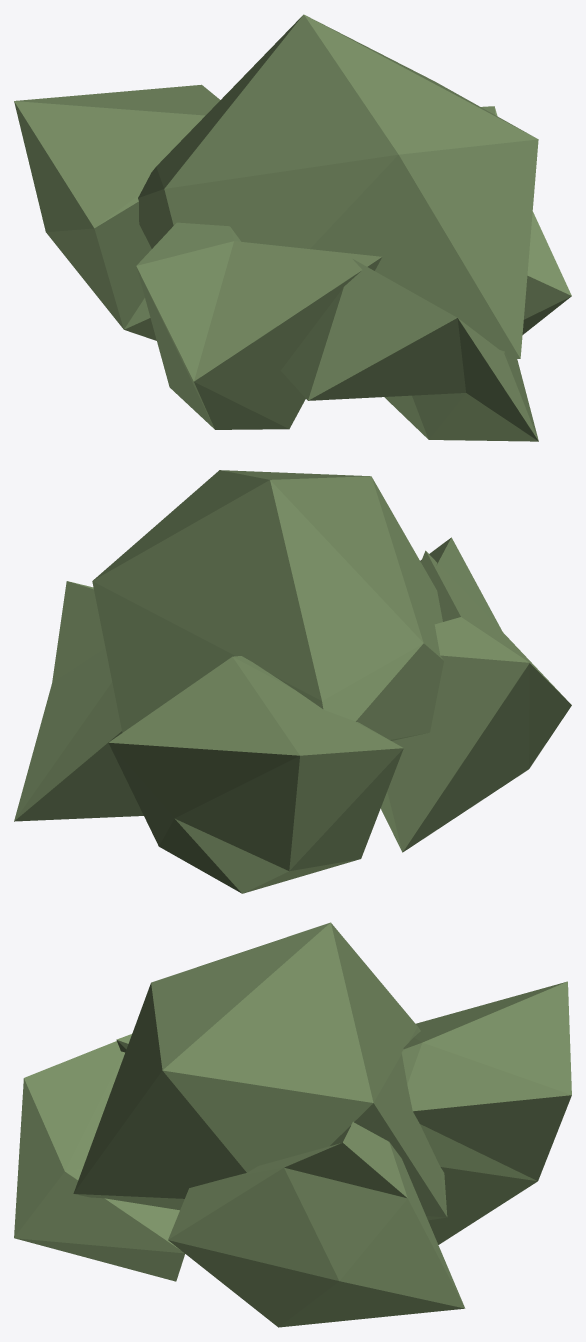
The model's file is bush_4.glb.
The picture shows the model from 3 angles, top to bottom: view 1: azimuth 30°, elevation 25°; view 2: azimuth 150°, elevation 25°; view 3: azimuth 270°, elevation 25°; orthographic projection. The views are drawn at different scales.
Parts seen in each view (by area): view 1: bush_4.001; view 2: bush_4.001; view 3: bush_4.001.
Boxes of the visible parts, x1,y1,x2,y2 form: bush_4.001: (14, 14, 571, 441); bush_4.001: (14, 470, 571, 893); bush_4.001: (14, 922, 571, 1327).
Bounding box in the file's own units: 2.49 × 2.22 × 3.18.
